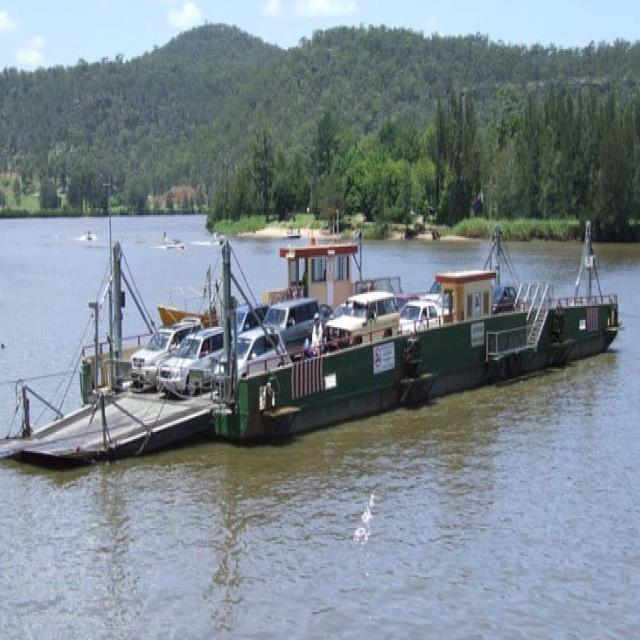cargoship: (77, 180, 624, 449)
